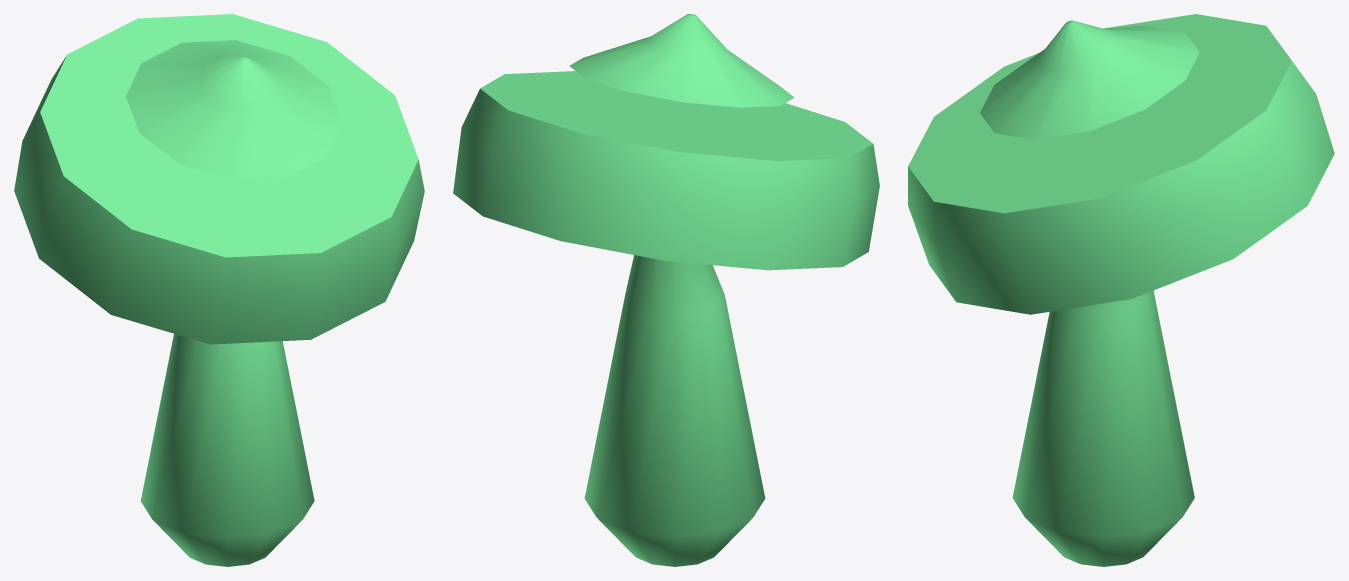
The picture shows the model from 3 angles, left to right: view 1: azimuth 30°, elevation 25°; view 2: azimuth 150°, elevation 25°; view 3: azimuth 270°, elevation 25°; orthographic projection. The views are drawn at different scales.
Parts seen in each view (by area): view 1: Object_2; view 2: Object_2; view 3: Object_2.
Part boxes in pixels (bbox=[...]): Object_2: bbox=[14, 14, 424, 566]; Object_2: bbox=[453, 14, 879, 566]; Object_2: bbox=[908, 14, 1334, 566].
Bounding box in the file's own units: 0.7345 × 1 × 0.735.
